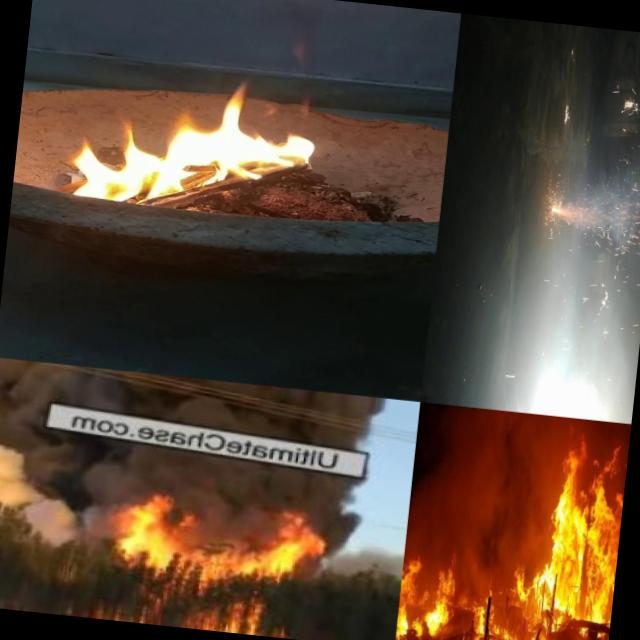fire: (58, 45, 328, 228), (531, 437, 628, 640), (394, 544, 462, 640), (242, 506, 328, 578), (465, 559, 538, 640), (120, 493, 194, 570), (202, 602, 304, 640), (98, 602, 184, 628), (622, 352, 638, 424), (0, 599, 33, 611)
smoke: (0, 435, 124, 553), (493, 419, 538, 498), (475, 493, 506, 562), (502, 497, 546, 542)
